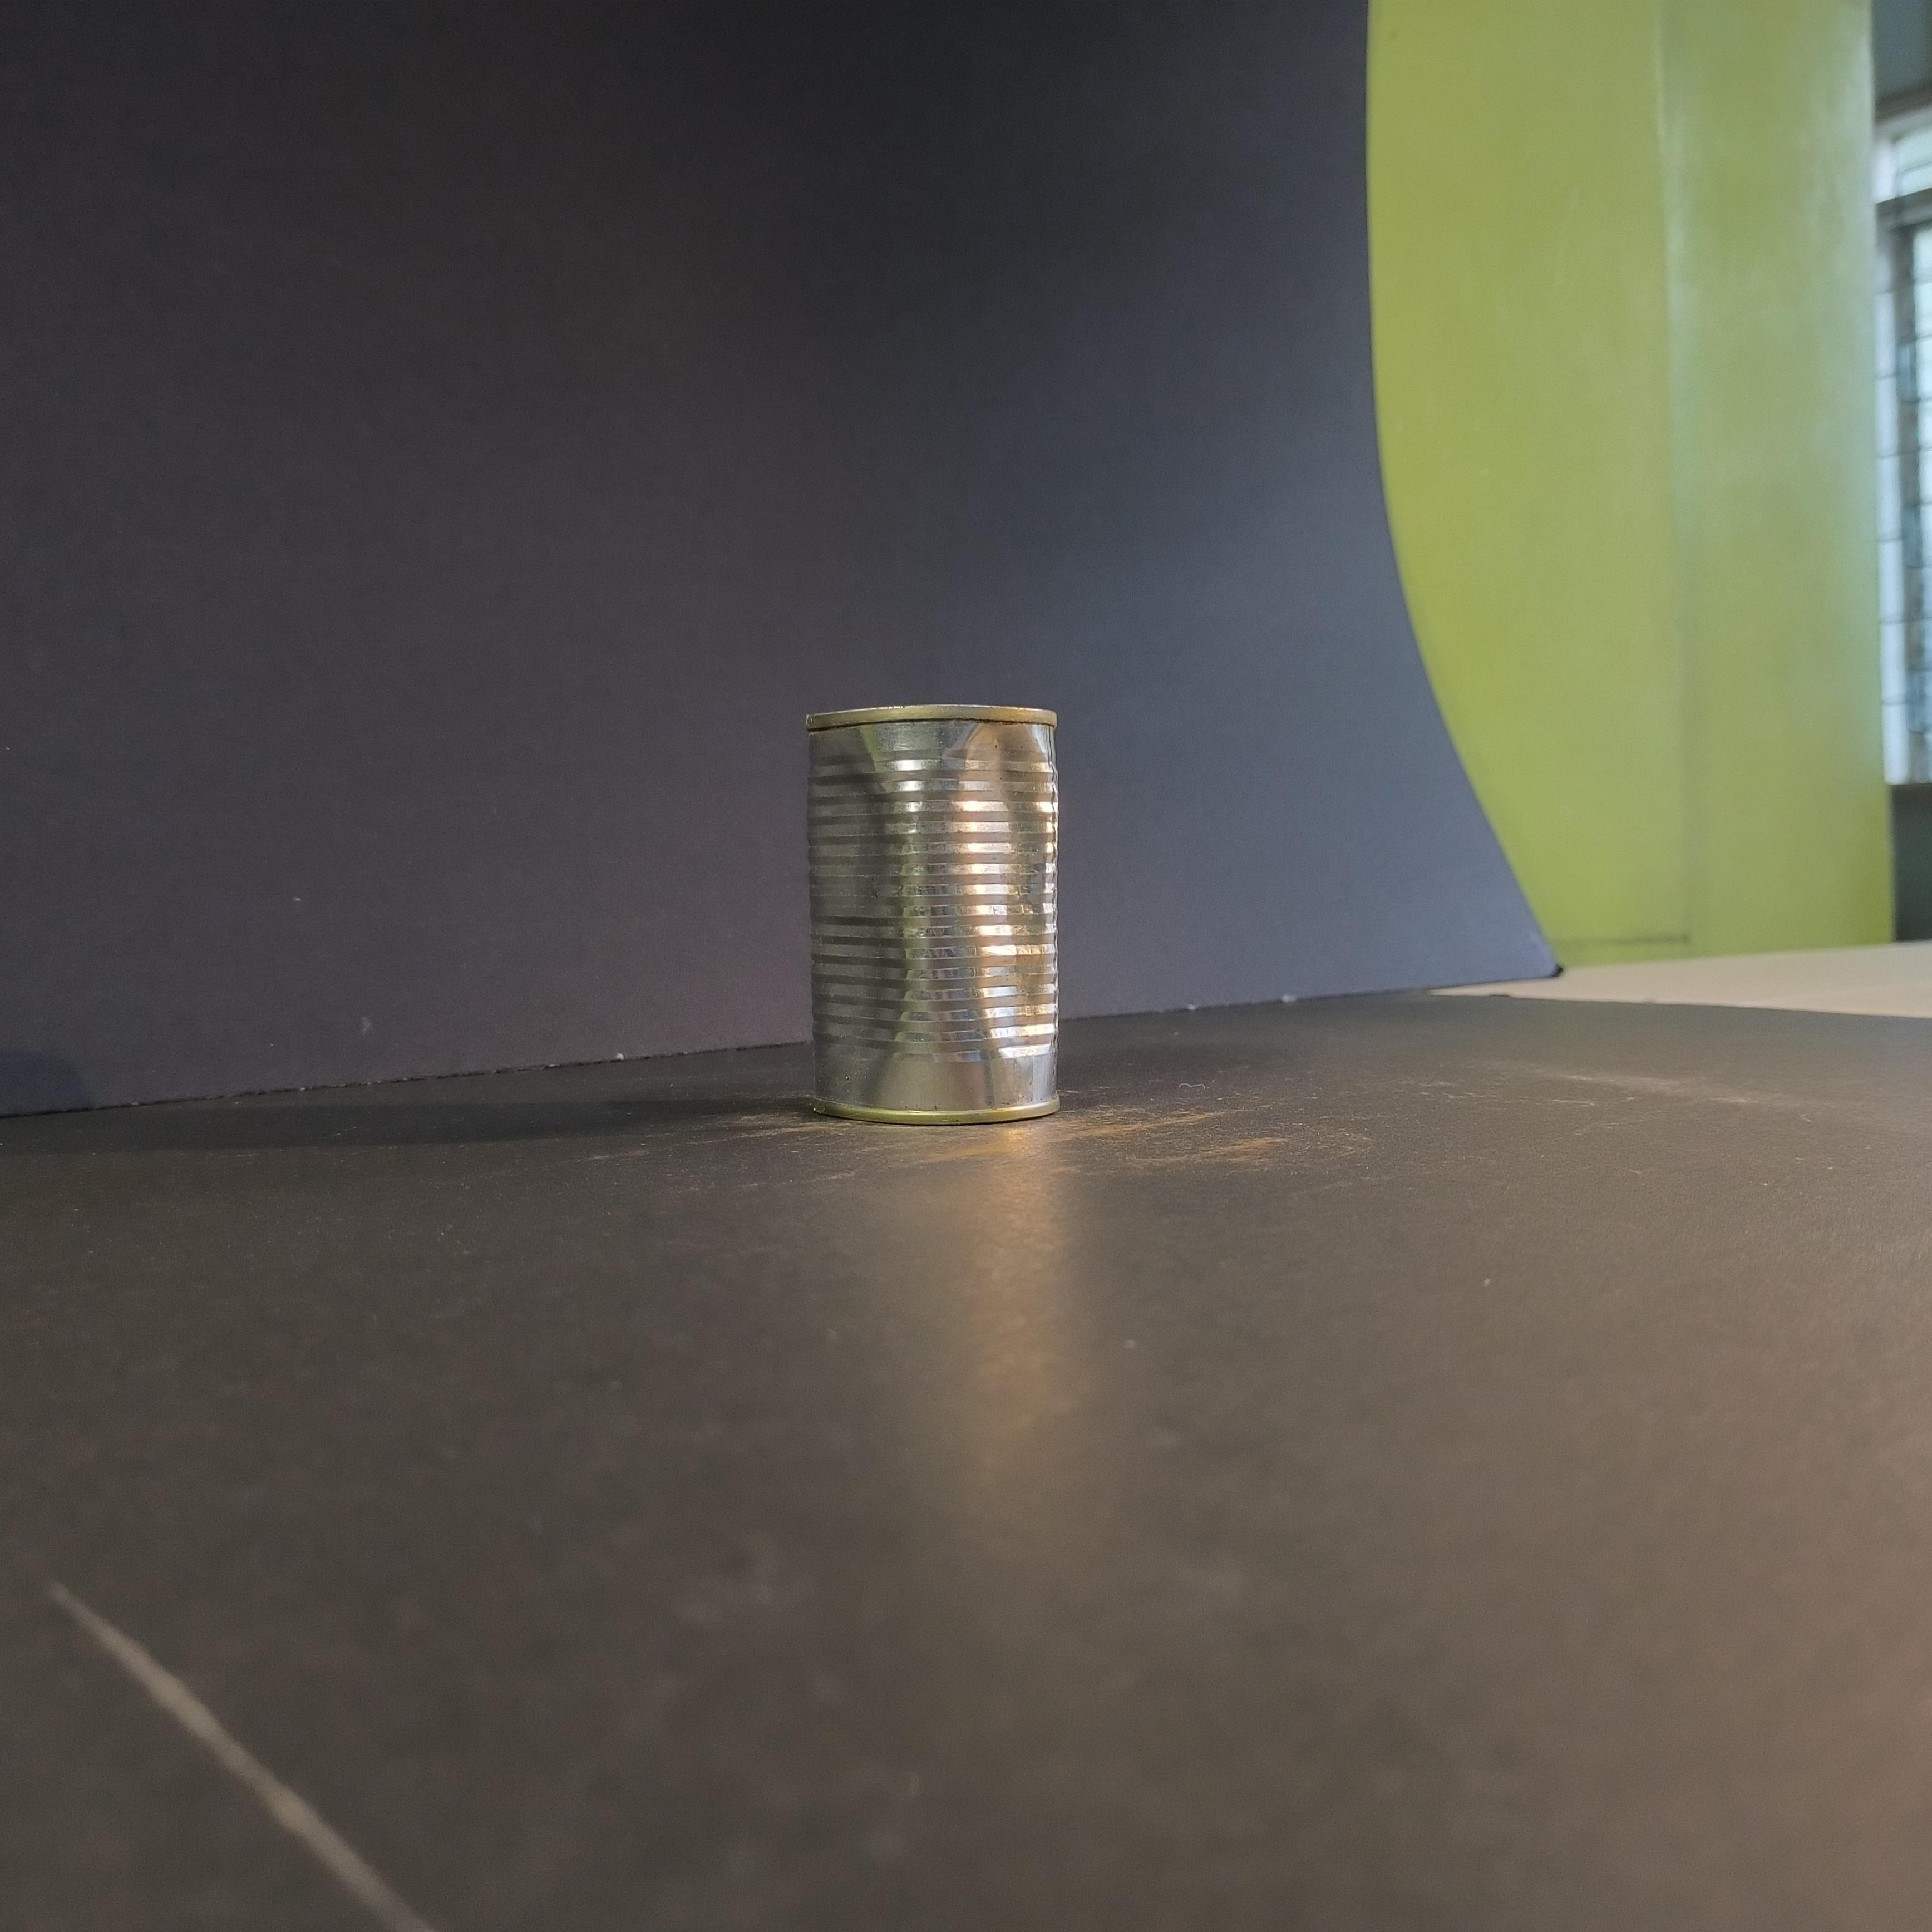Dented: (782, 671, 1079, 1148)
